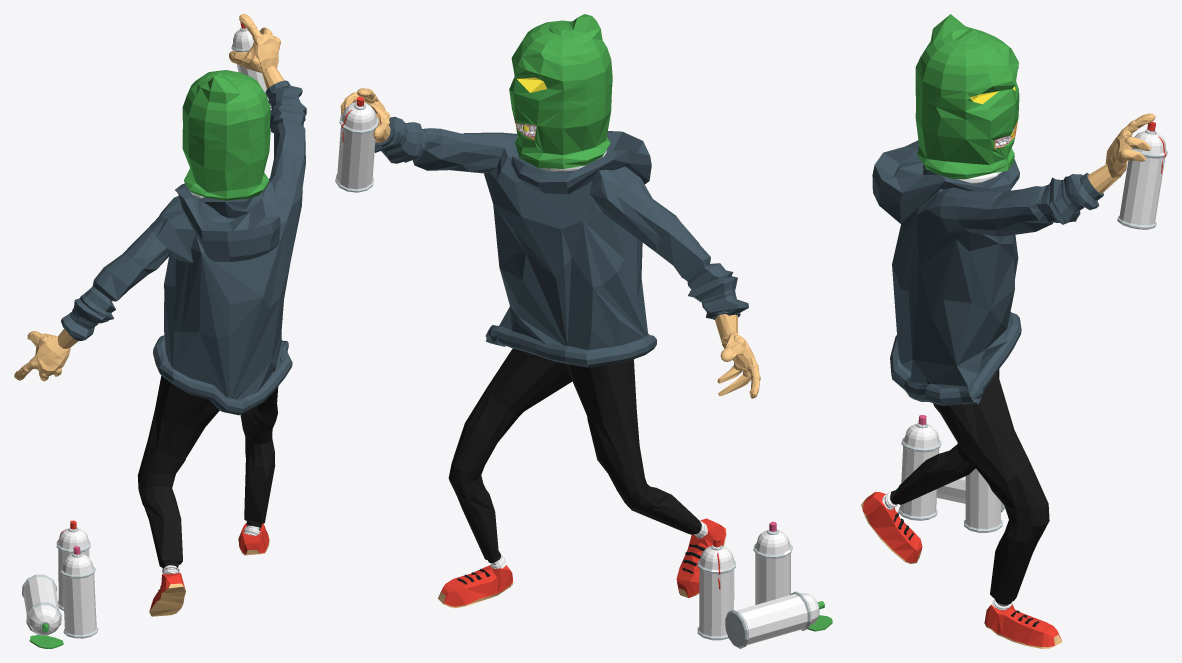
Rendered from scene_4EgdngHhtM.glb.
The picture shows the model from 3 angles, left to right: view 1: azimuth 30°, elevation 25°; view 2: azimuth 150°, elevation 25°; view 3: azimuth 270°, elevation 25°; orthographic projection. The views are drawn at different scales.
Visible parts, largest first — view 1: Node; view 2: Node; view 3: Node.
Boxes of the visible parts, bbox=[...] form: Node: bbox=[14, 14, 306, 648]; Node: bbox=[335, 14, 832, 648]; Node: bbox=[861, 14, 1167, 648].
Size of the model in its own units: 4.86 by 6.97 by 3.31.
